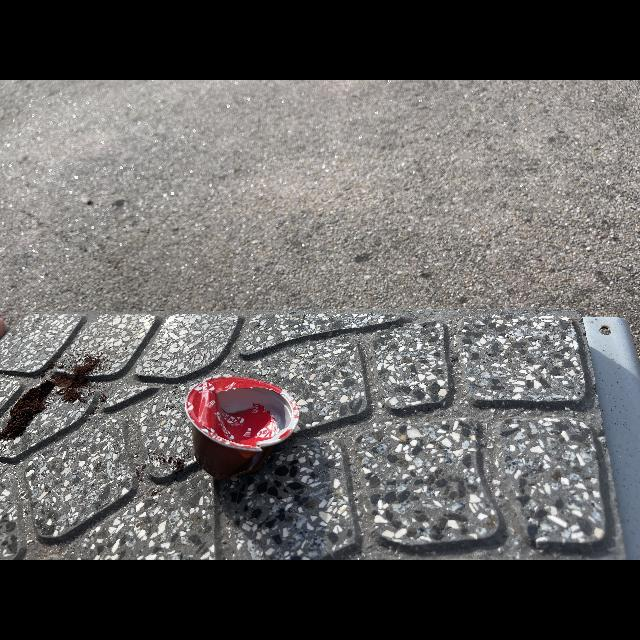damaged_capsule: (175, 368, 317, 478)
